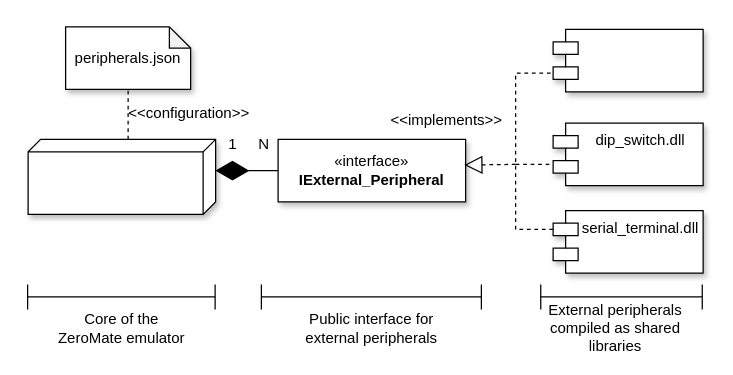
This 733x375 diagram has some shape labels left out. Here are the shapes that lost their labels. From the top down, the centre of each, then its label:
the point at 629,62: button.dll
the point at 122,178: ZeroMate emulator
